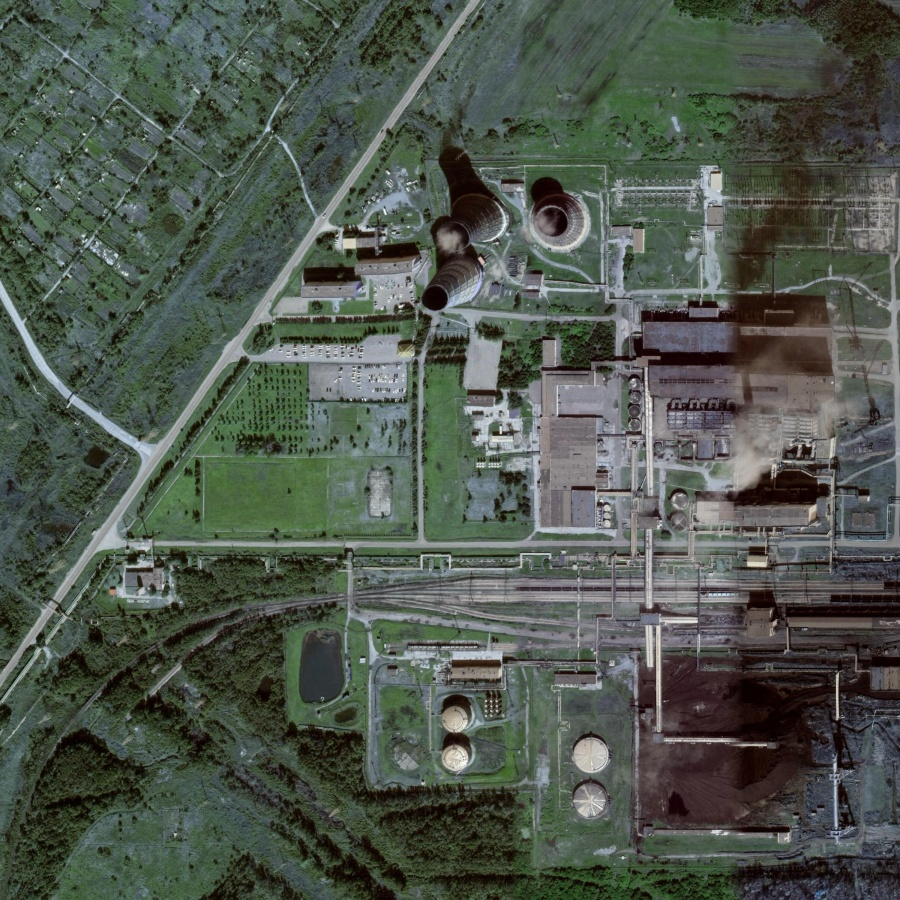PowerPlant: (400, 153, 889, 849)
